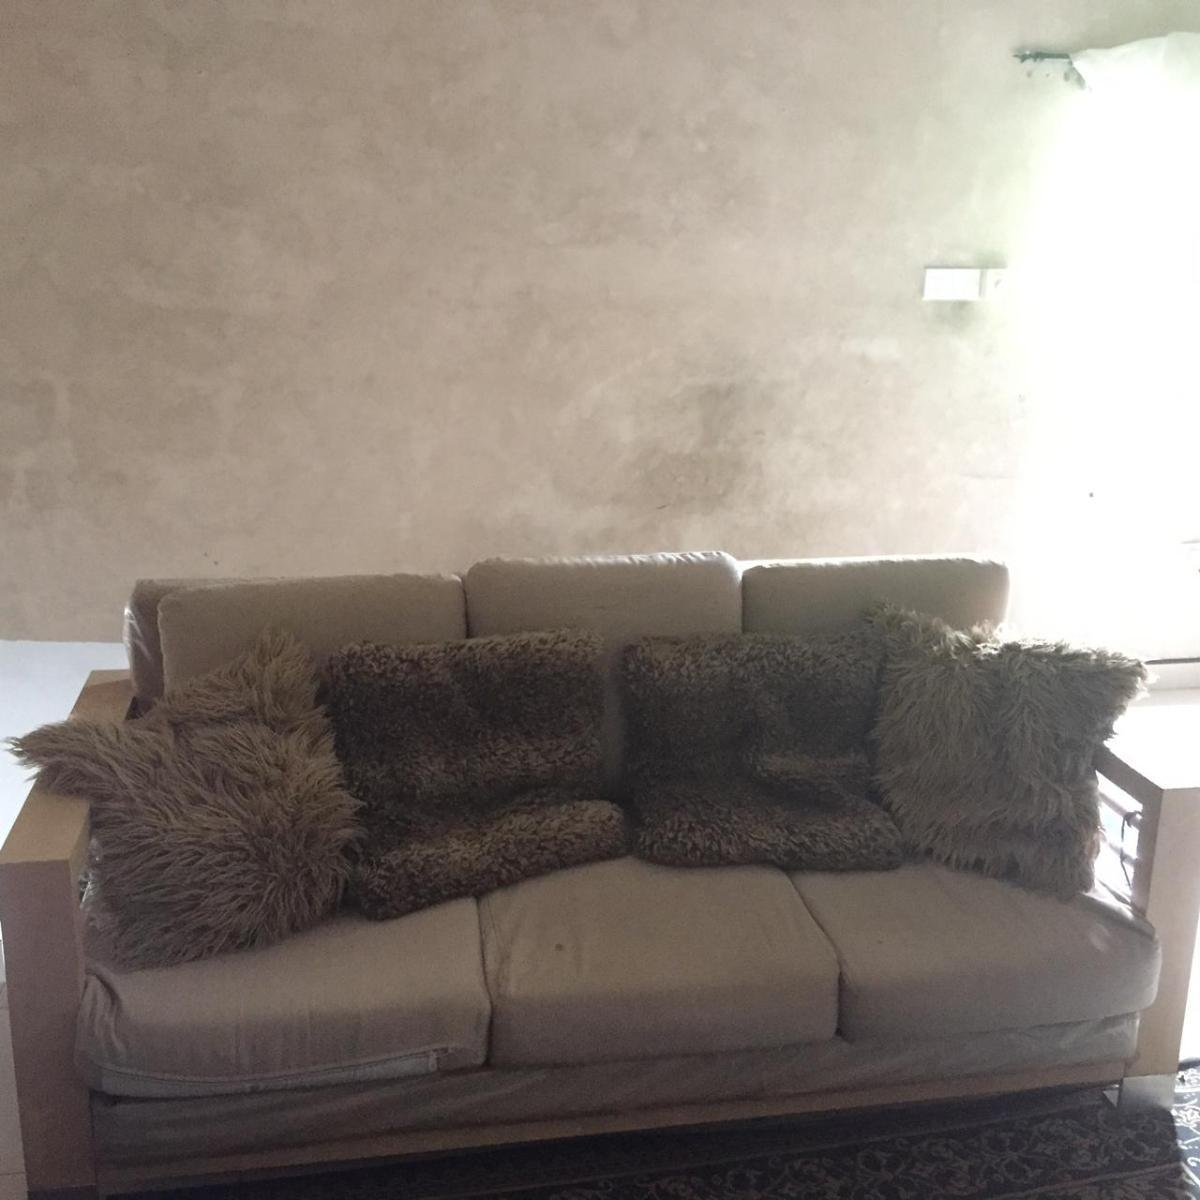Sofa: (7, 551, 1191, 1191)
